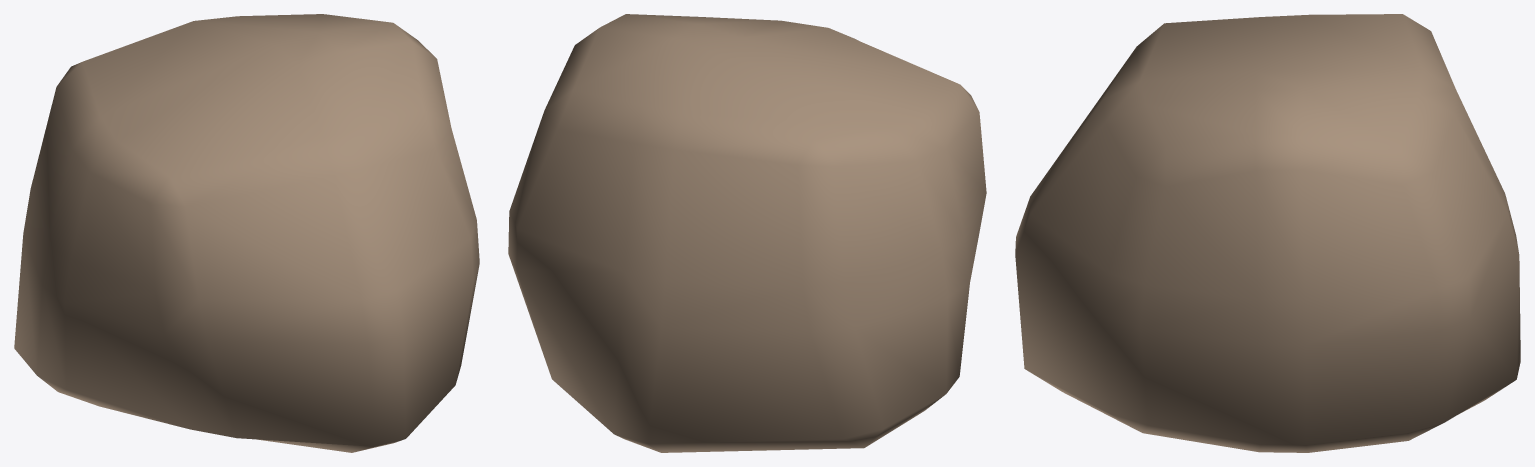
File: Rock_Small_2.fbx
3 renders of one model, left to right at view 1: azimuth 30°, elevation 25°; view 2: azimuth 150°, elevation 25°; view 3: azimuth 270°, elevation 25°, orthographic. The views are drawn at different scales.
Visible parts, largest first — view 1: RockSmall_2; view 2: RockSmall_2; view 3: RockSmall_2.
Boxes of the visible parts, x1,y1,x2,y2 form: RockSmall_2: [14, 14, 479, 452]; RockSmall_2: [508, 14, 986, 452]; RockSmall_2: [1015, 14, 1520, 452].
Size of the model in its own units: 1.92 by 1.49 by 2.06.
